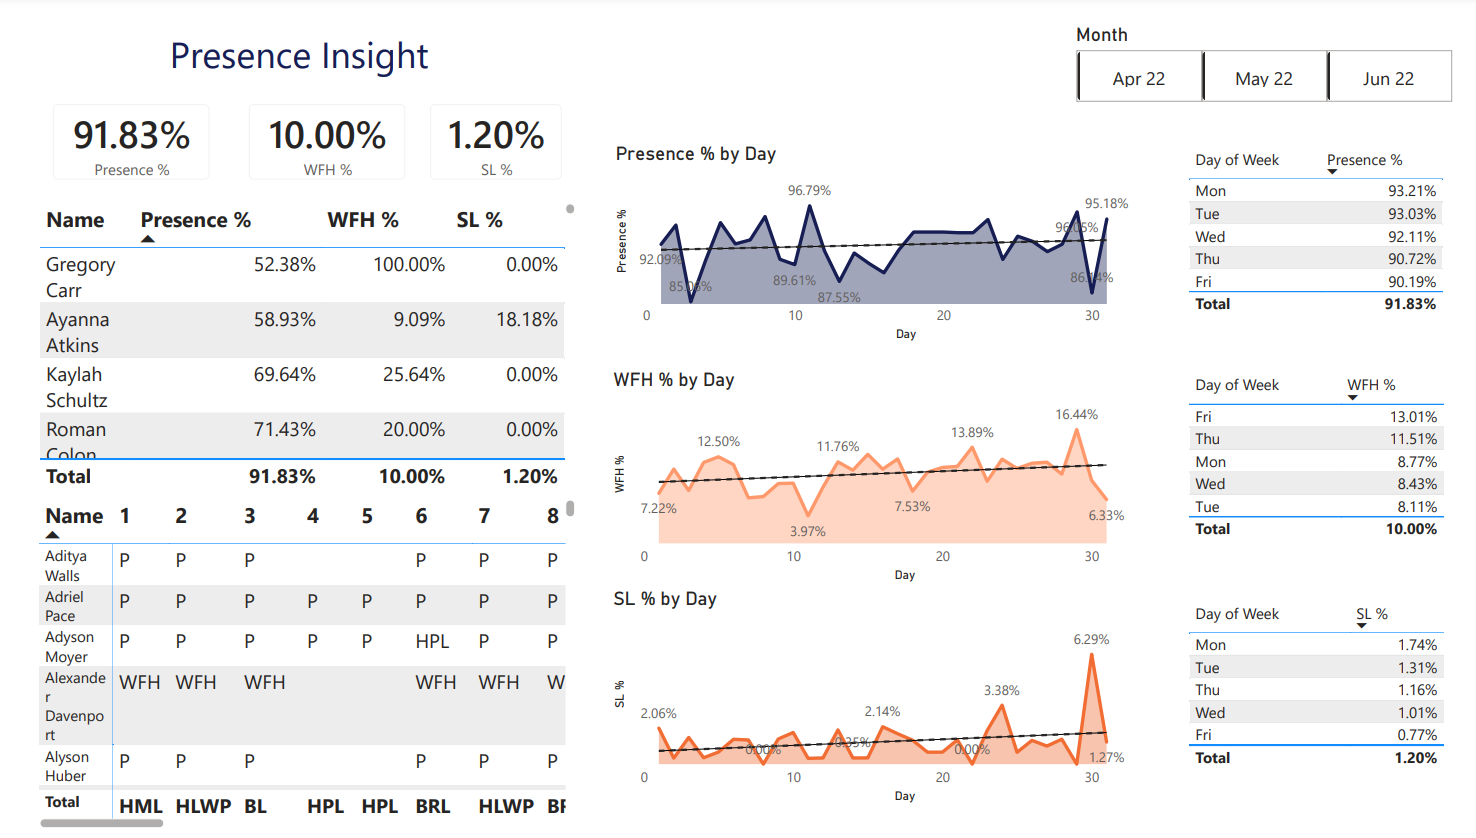

What the dashboard file says about the page in this screenshot:
{"tool":"powerbi","page":{"name":"Presence Overview","canvas":[1280,720],"ordinal":0},"visuals":[{"type":"cardVisual","fields":{"Data":["Measures Table.Presence %"]},"box":[13.8,55,173.8,101.2],"z":0},{"type":"advancedSlicerVisual","fields":{"Values":["Final Data.Month"]},"box":[935.5,0,344.6,77.1],"z":1000},{"type":"tableEx","fields":{"Values":["Final Data.Name","Measures Table.Presence %","Measures Table.WFH %","Measures Table.SL %"]},"box":[13.7,155.5,486.4,262.5],"z":2000},{"type":"cardVisual","fields":{"Data":["Measures Table.WFH %"]},"box":[187.5,55,173.8,101.2],"z":3000},{"type":"cardVisual","fields":{"Data":["Measures Table.SL %"]},"box":[348.8,55,151.2,101.2],"z":4000},{"type":"textbox","box":[0,0,500,55],"z":5000},{"type":"pivotTable","fields":{"Rows":["Final Data.Name"],"Values":["Min(Final Data.Value)"],"Columns":["Final Data.Date.Variation.Date Hierarchy.Day"]},"box":[13.7,418,486.4,302.3],"z":6000},{"type":"areaChart","fields":{"Y":["Measures Table.Presence %"],"Category":["Final Data.Date.Variation.Date Hierarchy.Day"]},"box":[525.6,105.7,509.1,181.1],"z":7000},{"type":"areaChart","fields":{"Category":["Final Data.Date.Variation.Date Hierarchy.Day"],"Y":["Measures Table.WFH %"]},"box":[524.2,306,510.5,194.9],"z":8000},{"type":"areaChart","fields":{"Category":["Final Data.Date.Variation.Date Hierarchy.Day"],"Y":["Measures Table.SL %"]},"box":[524.2,500.9,510.5,196.2],"z":9000},{"type":"tableEx","fields":{"Values":["Final Data.Day of Week","Measures Table.Presence %"]},"box":[1034.7,105.7,245.6,181.1],"z":10000},{"type":"tableEx","fields":{"Values":["Final Data.Day of Week","Measures Table.WFH %"]},"box":[1034.7,306,245.6,181.1],"z":11000},{"type":"tableEx","fields":{"Values":["Final Data.Day of Week","Measures Table.SL %"]},"box":[1034.7,509.1,245.6,181.1],"z":12000}]}

Visuals, with their boxes in screenshot pixels (x1, y1, x2, y2), scaled from the page's 1280x720 canvas onto the 1476x838 screenshot:
cardVisual - Measures Table.Presence %: 16, 64, 216, 182
advancedSlicerVisual - Final Data.Month: 1079, 0, 1475, 90
tableEx - Final Data.Name x Measures Table.Presence %: 16, 181, 577, 487
cardVisual - Measures Table.WFH %: 216, 64, 417, 182
cardVisual - Measures Table.SL %: 402, 64, 577, 182
textbox: 0, 0, 577, 64
pivotTable - Final Data.Name x Min(Final Data.Value): 16, 487, 577, 837
areaChart - Measures Table.Presence % x Final Data.Date.Variation.Date Hierarchy.Day: 606, 123, 1193, 334
areaChart - Final Data.Date.Variation.Date Hierarchy.Day x Measures Table.WFH %: 604, 356, 1193, 583
areaChart - Final Data.Date.Variation.Date Hierarchy.Day x Measures Table.SL %: 604, 583, 1193, 811
tableEx - Final Data.Day of Week x Measures Table.Presence %: 1193, 123, 1475, 334
tableEx - Final Data.Day of Week x Measures Table.WFH %: 1193, 356, 1475, 567
tableEx - Final Data.Day of Week x Measures Table.SL %: 1193, 593, 1475, 803
